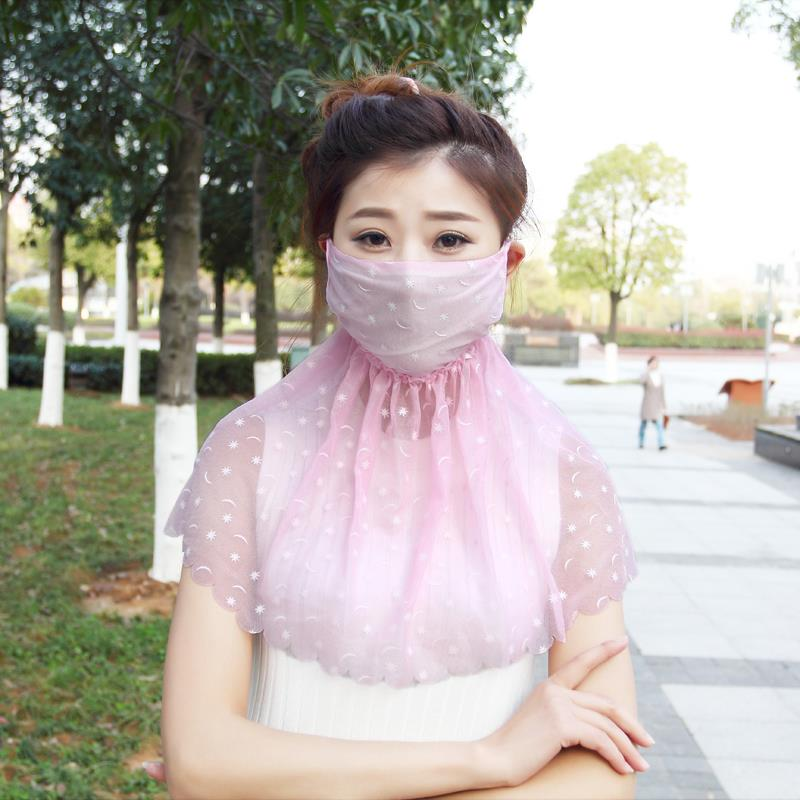face_mask: (328, 150, 501, 366)
